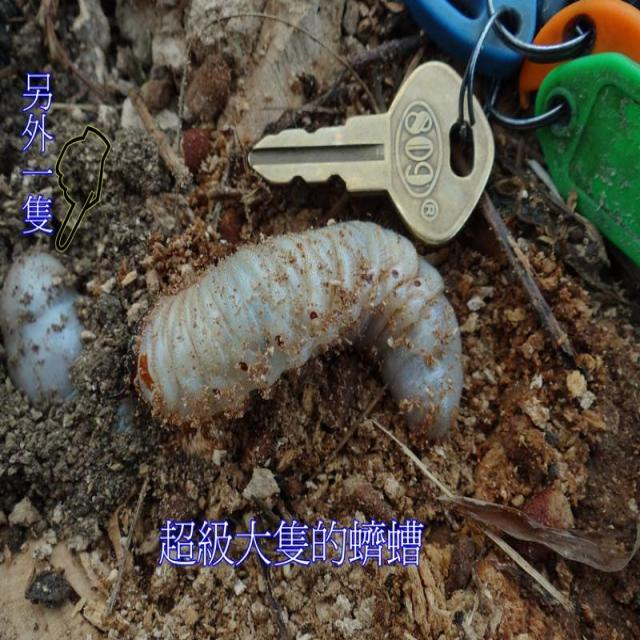Grub-Adult-: (132, 213, 467, 453)
